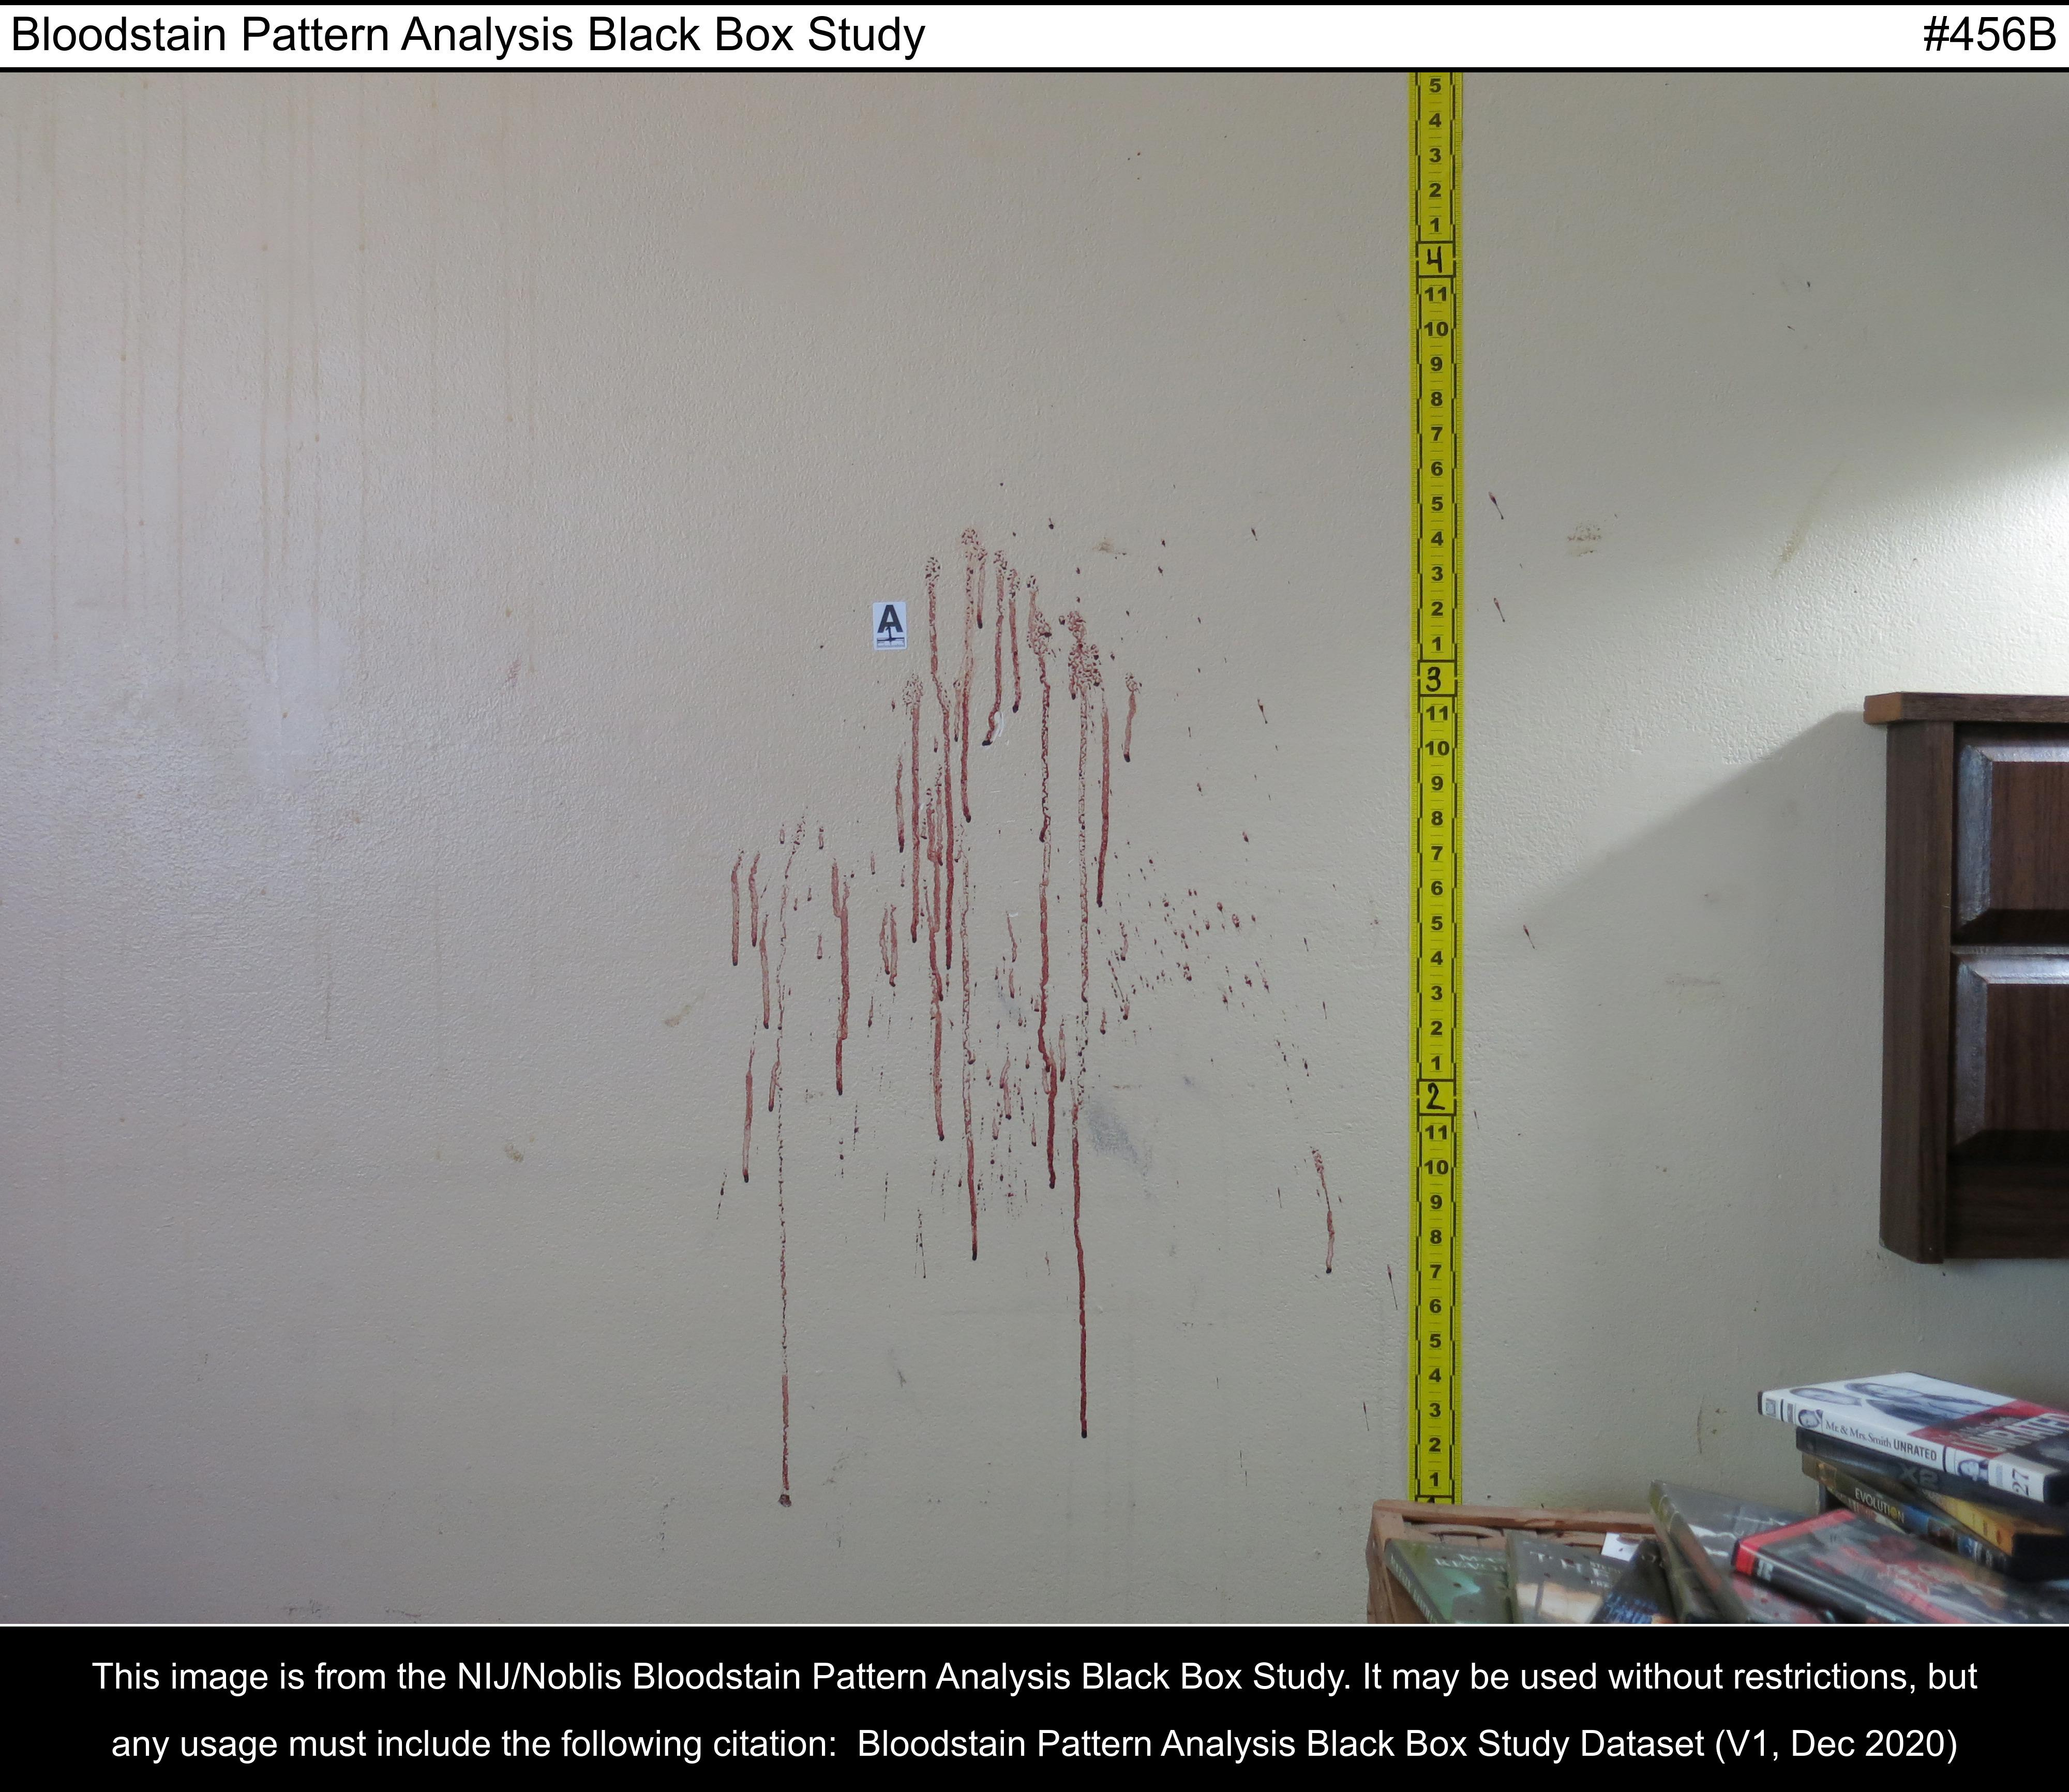Passive: (672, 452, 1386, 1533)
